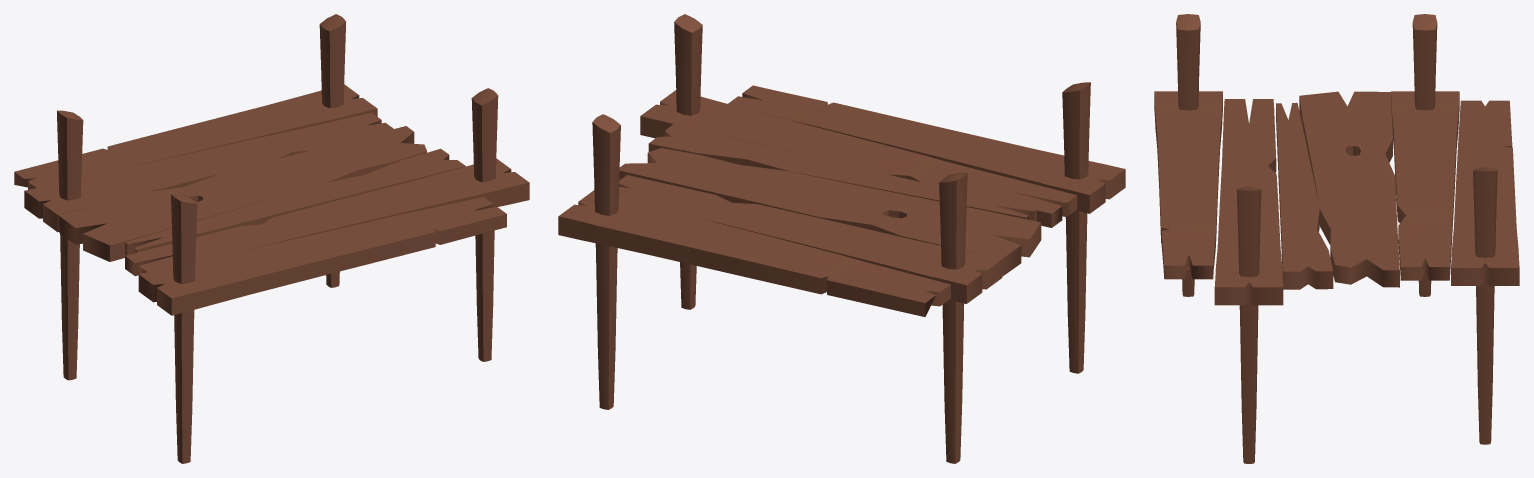
The model's file is Planks_track.fbx.
The picture shows the model from 3 angles, left to right: view 1: azimuth 30°, elevation 25°; view 2: azimuth 150°, elevation 25°; view 3: azimuth 270°, elevation 25°; orthographic projection. The views are drawn at different scales.
Parts seen in each view (by area): view 1: Plank_06_geo, Plank_02_geo, Plank_04_geo, Plank_03_geo, Plank_01_geo, Plank_05_geo, Stick_01_geo1, Stick_01_geo, Stick_02_geo1, Stick_02_geo; view 2: Plank_01_geo, Plank_02_geo, Plank_04_geo, Plank_06_geo, Plank_03_geo, Plank_05_geo, Stick_02_geo, Stick_01_geo, Stick_01_geo1, Stick_02_geo1; view 3: Plank_02_geo, Plank_06_geo, Plank_03_geo, Plank_04_geo, Plank_01_geo, Plank_05_geo, Stick_02_geo, Stick_02_geo1, Stick_01_geo1, Stick_01_geo.
Part boxes in pixels (x1,y1,x2,y2): Plank_06_geo: (138,197,506,315); Plank_02_geo: (58,126,426,261); Plank_04_geo: (125,158,529,275); Plank_03_geo: (24,112,393,232); Plank_01_geo: (14,84,377,189); Plank_05_geo: (125,148,465,255); Stick_01_geo1: (171,194,197,463); Stick_01_geo: (57,110,83,380); Stick_02_geo1: (471,88,498,361); Stick_02_geo: (319,14,346,287); Plank_01_geo: (558,190,950,316); Plank_02_geo: (619,148,1041,276); Plank_04_geo: (640,90,1077,227); Plank_06_geo: (728,85,1125,213); Plank_03_geo: (619,175,1002,303); Plank_05_geo: (648,124,1036,221); Stick_02_geo: (592,114,620,409); Stick_01_geo: (939,172,967,463); Stick_01_geo1: (1062,82,1090,373); Stick_02_geo1: (674,14,702,309); Plank_02_geo: (1299,91,1399,287); Plank_06_geo: (1154,91,1222,279); Plank_03_geo: (1391,91,1459,280); Plank_04_geo: (1214,99,1283,305); Plank_01_geo: (1451,100,1519,285); Plank_05_geo: (1276,102,1333,289); Stick_02_geo: (1473,167,1497,444); Stick_02_geo1: (1236,186,1261,463); Stick_01_geo1: (1176,14,1200,296); Stick_01_geo: (1412,14,1437,296).
Size of the model in its own units: 313 by 206 by 247.
